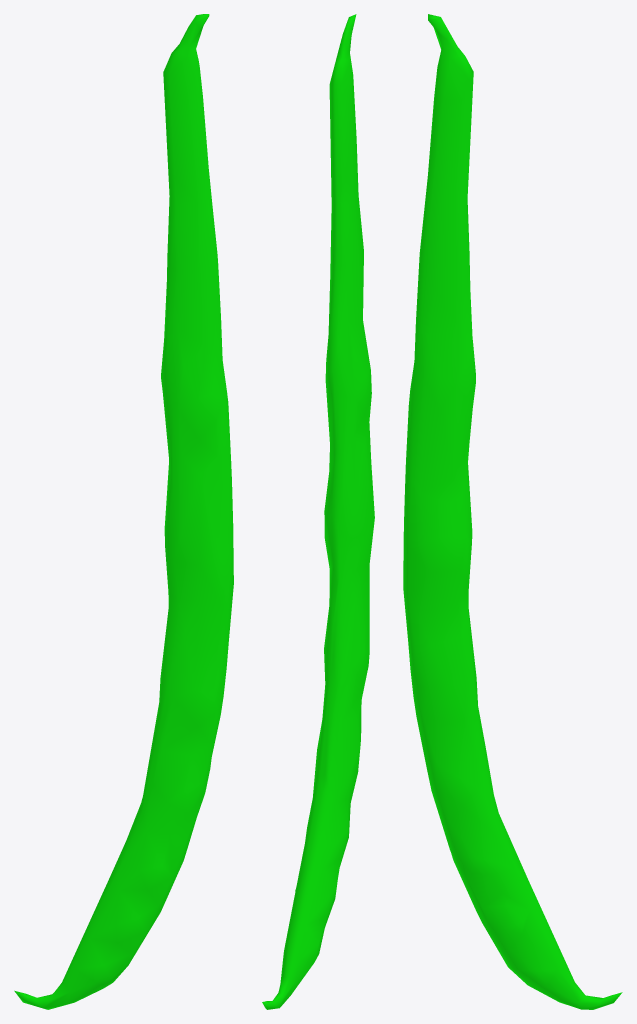
File: SM_Beans.glb
3 views of the same model, side by side, from view 1: azimuth 90°, elevation 25°; view 2: azimuth 150°, elevation 25°; view 3: azimuth 270°, elevation 25° (orthographic). The views are drawn at different scales.
Visible parts, largest first — view 1: SM_Beans; view 2: SM_Beans; view 3: SM_Beans.
Part boxes in pixels (left/top/right/bottom): SM_Beans: left=14, top=14, right=233, bottom=1009; SM_Beans: left=262, top=14, right=374, bottom=1009; SM_Beans: left=403, top=14, right=622, bottom=1009.
Size of the model in its own units: 0.0143 by 0.3514 by 0.0703.
